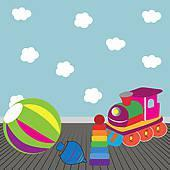train: (101, 85, 166, 147)
